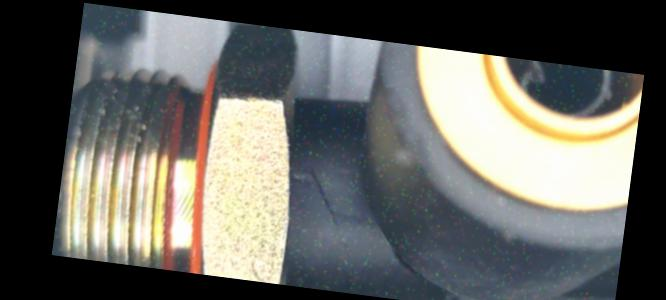craze: (301, 171, 349, 233)
off-centered: (502, 57, 622, 127)
white mark: (284, 170, 308, 189)
